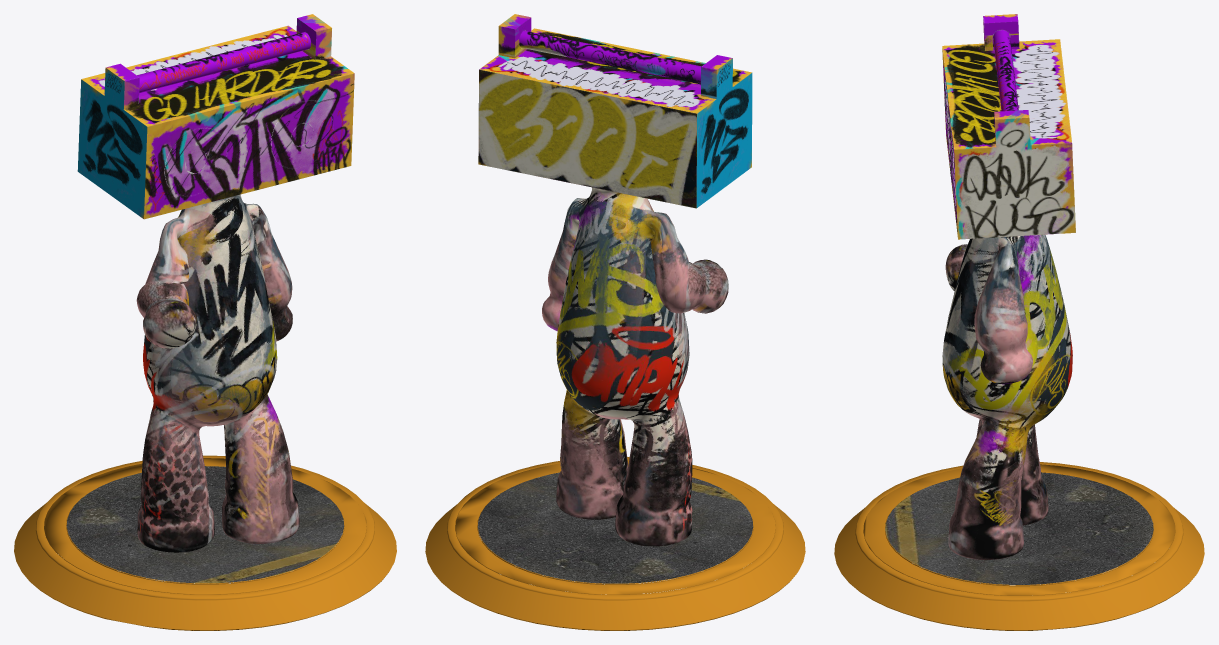
The picture shows the model from 3 angles, left to right: view 1: azimuth 30°, elevation 25°; view 2: azimuth 150°, elevation 25°; view 3: azimuth 270°, elevation 25°; orthographic projection. The views are drawn at different scales.
Visible parts, largest first — view 1: BBody; view 2: BBody; view 3: BBody.
Boxes of the visible parts, <box> form: BBody: <box>14,14,396,630</box>; BBody: <box>425,14,805,630</box>; BBody: <box>834,14,1204,630</box>.
Bounding box in the file's own units: 1.45 × 2.12 × 1.45.
Materials: 4 (3 with a texture image).
